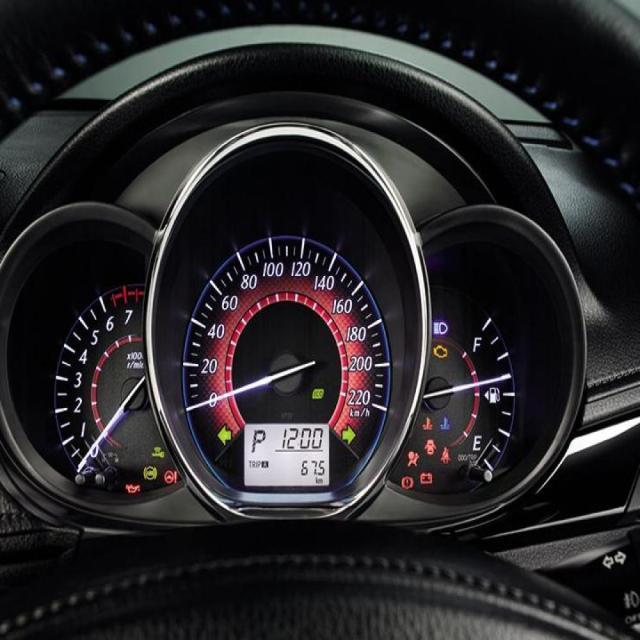Electronic Power Steering: (164, 470, 177, 484)
High Engine Coolant Temperature: (422, 418, 433, 430)
Seat Belt: (440, 446, 450, 464)
